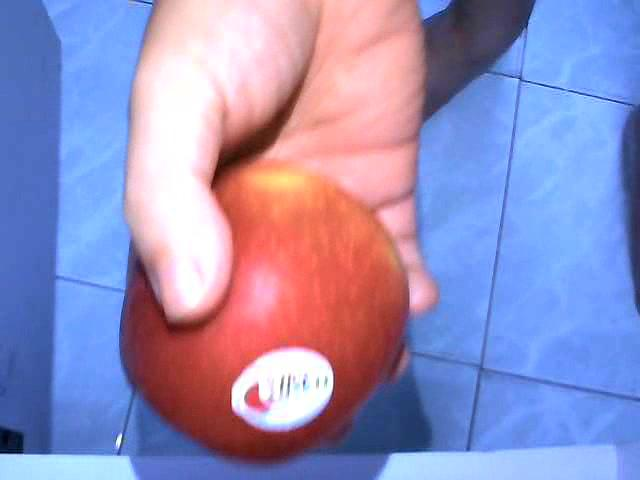apple: (114, 160, 409, 464)
